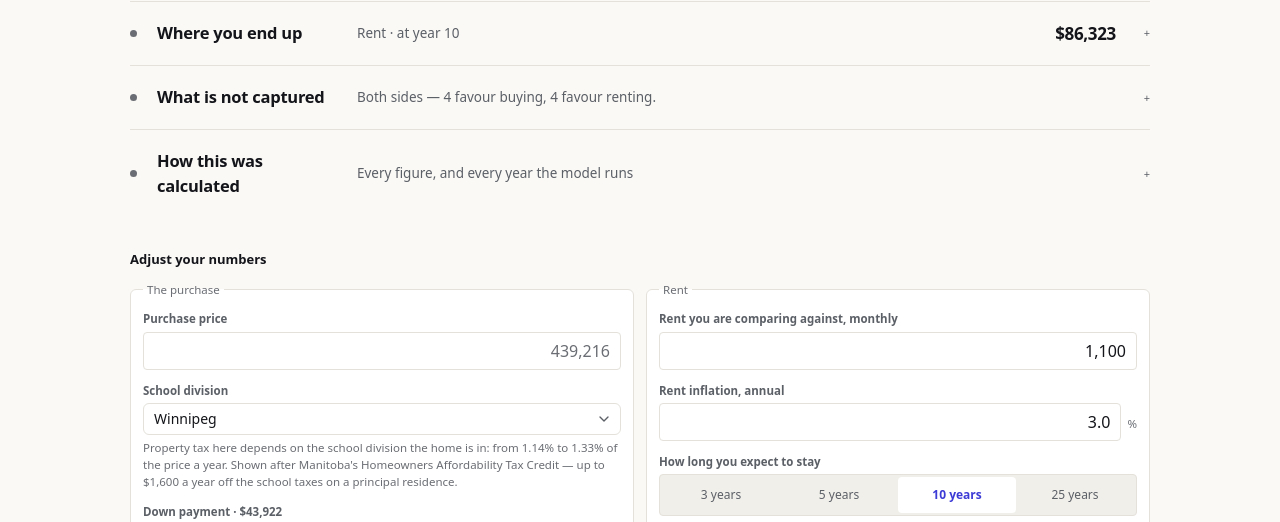
Test case: Rent vs buy — the horizon decides › flips the verdict on the rent being compared against
This screenshot has width=1280, height=522.
(page scrolled)
Type "3200" into the field labelled "Rent you are comparing against, monthly" at {"x": 898, "y": 351}, box [659,332,1137,370]
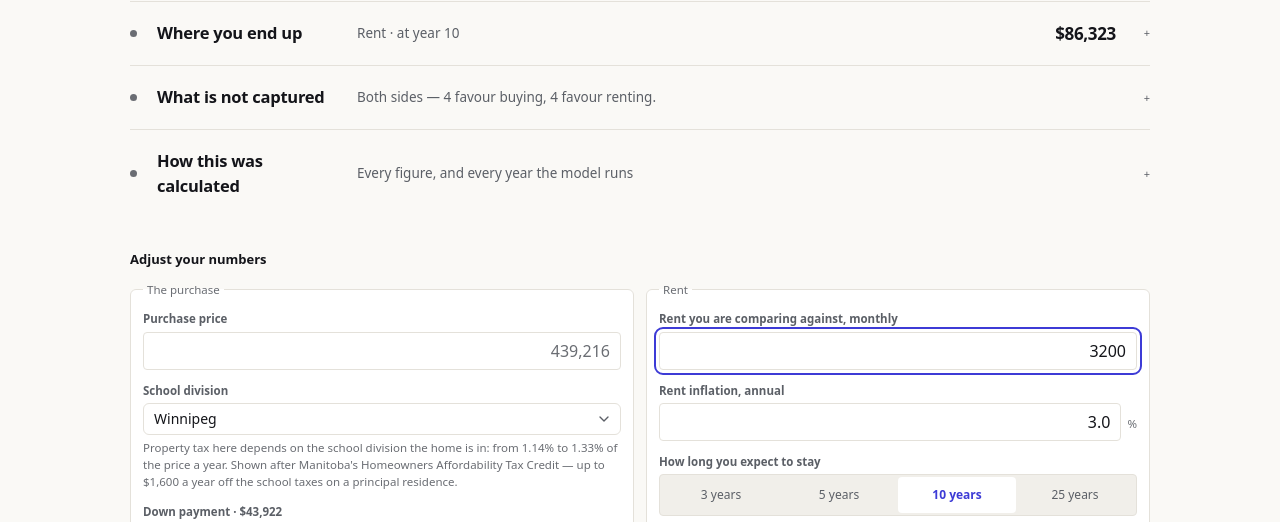
Press Tab
(page scrolled)
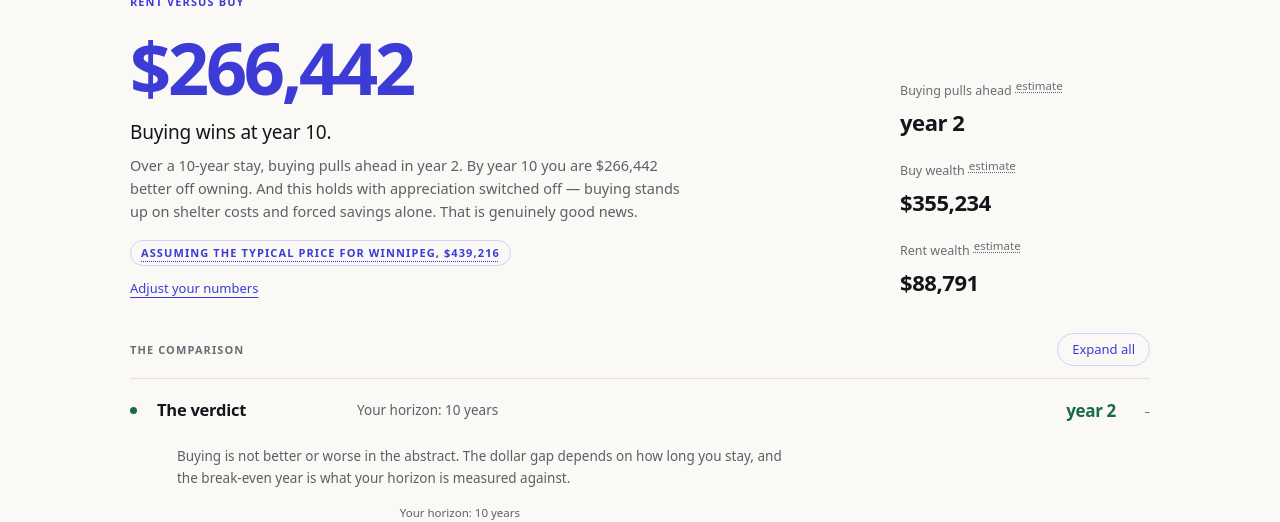
Check: the text "Buying wins at year 10." is shown, box [130,118,332,144]
